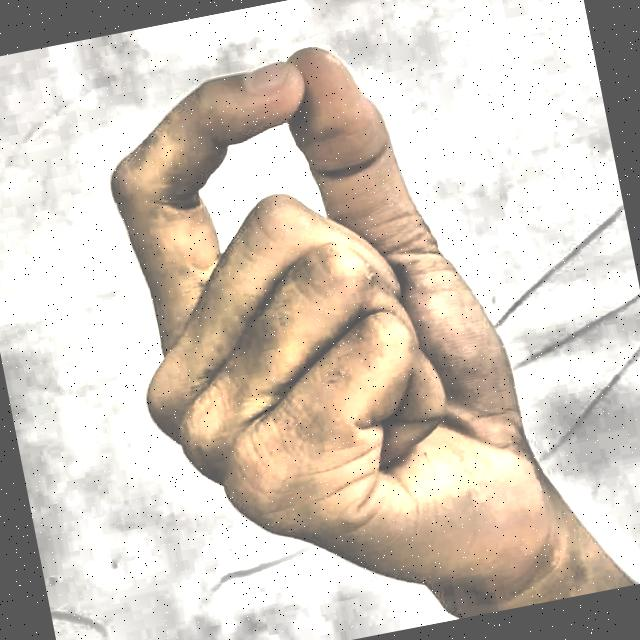Gha: (50, 0, 619, 640)
